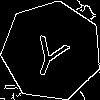Y: (26, 26, 75, 81)
